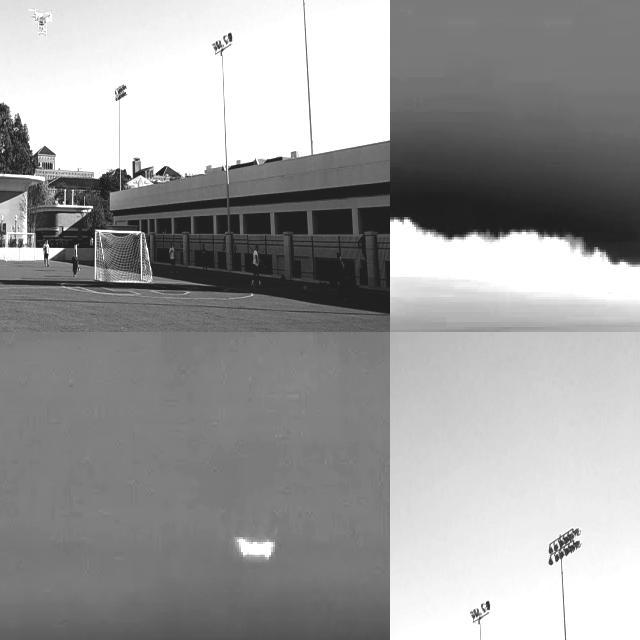1: (228, 534, 288, 568)
drone: (28, 5, 52, 32)
